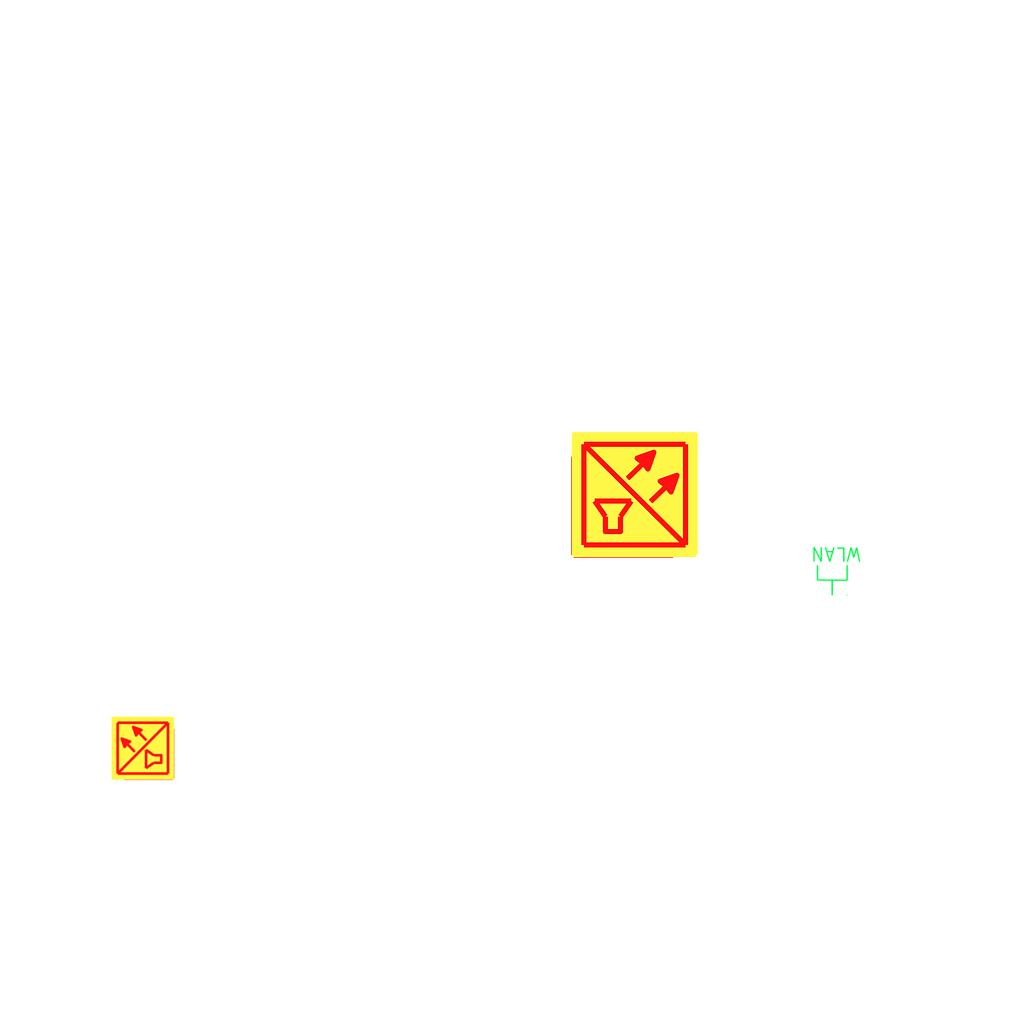OKW_Multisensormelder_(Kombination_optischer_Rauch-Kahlenmonoxid_Waerme-Melder): (569, 429, 701, 561), (110, 715, 176, 781)
WLAN: (811, 545, 863, 597)
